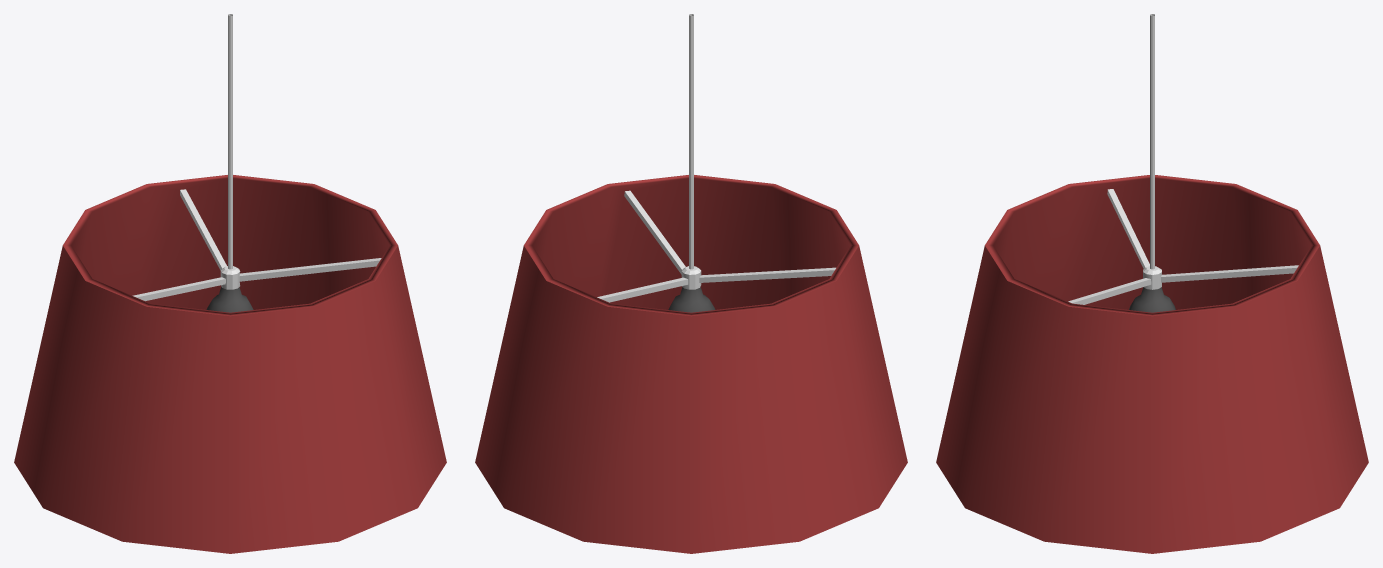
The model's file is ceilingLight.fbx.
3 views of the same model, side by side, from view 1: azimuth 30°, elevation 25°; view 2: azimuth 150°, elevation 25°; view 3: azimuth 270°, elevation 25° (orthographic).
Parts seen in each view (by area): view 1: ceilingLight; view 2: ceilingLight; view 3: ceilingLight.
Boxes of the visible parts, x1,y1,x2,y2 form: ceilingLight: (14, 14, 446, 553); ceilingLight: (475, 14, 907, 553); ceilingLight: (936, 14, 1368, 553).
Bounding box in the file's own units: 0.7227 × 0.8243 × 0.7227.
